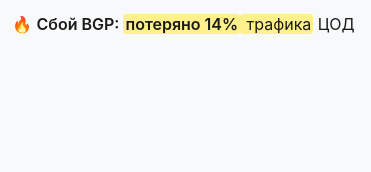
Test: SPEC 7.5.5 Reference Test: Interval Split Pass on surrogate emoji UTF-16 post › splits TextLeaf nodes at [13, 33] across bold [3, 25) producing exactly two <mark data-cite="c1"> without emoji shift
Expected: the element showing "Сбой BGP: потеряно 14%" is shown, [36,14,240,34]
Expected: the text "трафика" is shown, [240,14,313,34]
Step 1. Hover over the text "потеряно 14%" → point(182, 24), box [124,14,240,34]
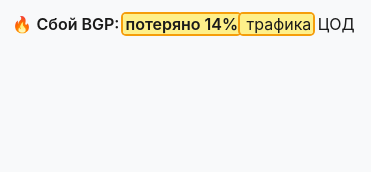
Expected: the text "потеряно 14%" has attribute data-cite-active="true"
Expected: the text "трафика" has attribute data-cite-active="true", [240,14,313,34]
Step 2. Move the pointer off the text "потеряно 14%", box [124,14,240,34]
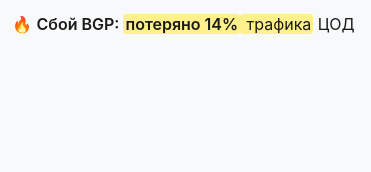
Expected: the text "потеряно 14%" has attribute data-cite-active="false", [124,14,240,34]
Expected: the text "трафика" has attribute data-cite-active="false"
// Unified focus synchronization via keyboard navigation
Step 3. Focus the text "трафика" → point(277, 24), box [240,14,313,34]
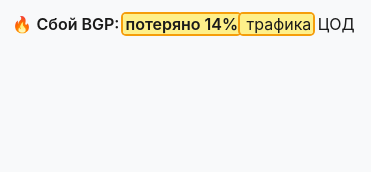
Expected: the text "потеряно 14%" has attribute data-cite-active="true", [124,14,240,34]
Expected: the text "трафика" has attribute data-cite-active="true"
Step 4. Leave the text "трафика", box [240,14,313,34]
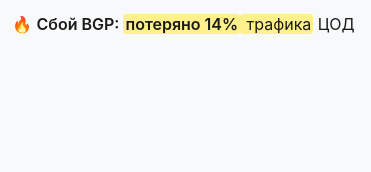
Expected: the text "потеряно 14%" has attribute data-cite-active="false", [124,14,240,34]
Expected: the text "трафика" has attribute data-cite-active="false", [240,14,313,34]
